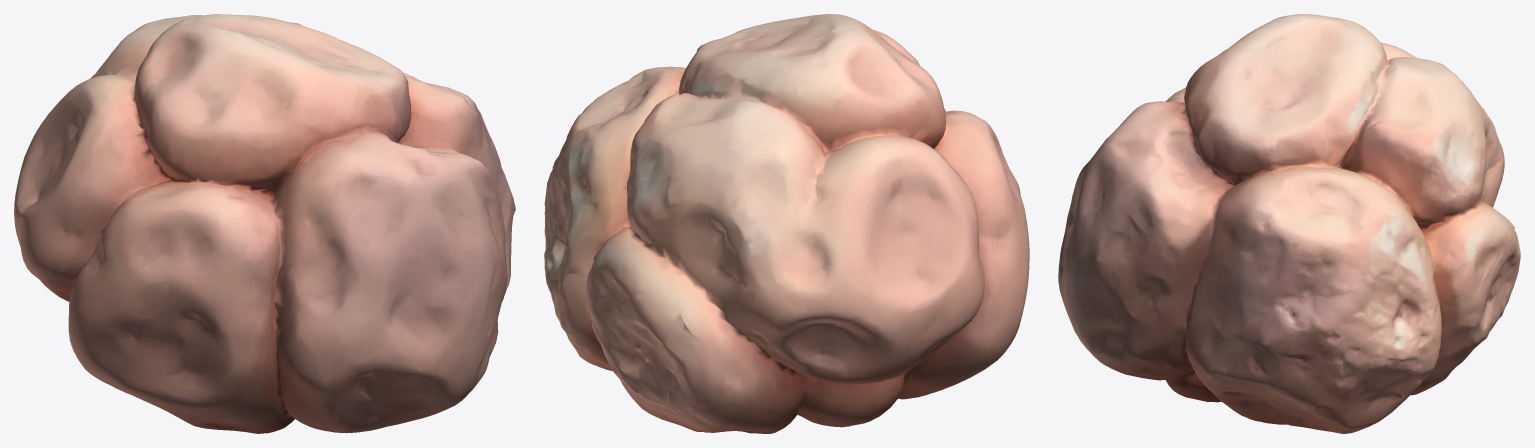
Rendered from boulder.glb.
The picture shows the model from 3 angles, left to right: view 1: azimuth 30°, elevation 25°; view 2: azimuth 150°, elevation 25°; view 3: azimuth 270°, elevation 25°; orthographic projection. The views are drawn at different scales.
Parts seen in each view (by area): view 1: tripo_node_17e12a80-2586-4cc7-87ba-34d94ed74acf; view 2: tripo_node_17e12a80-2586-4cc7-87ba-34d94ed74acf; view 3: tripo_node_17e12a80-2586-4cc7-87ba-34d94ed74acf.
Part boxes in pixels (x1,y1,x2,y2): tripo_node_17e12a80-2586-4cc7-87ba-34d94ed74acf: [14, 14, 515, 433]; tripo_node_17e12a80-2586-4cc7-87ba-34d94ed74acf: [544, 14, 1029, 433]; tripo_node_17e12a80-2586-4cc7-87ba-34d94ed74acf: [1058, 14, 1520, 433].
Bounding box in the file's own units: 0.995 × 0.8022 × 1.
Materials: 1 (1 with a texture image).
